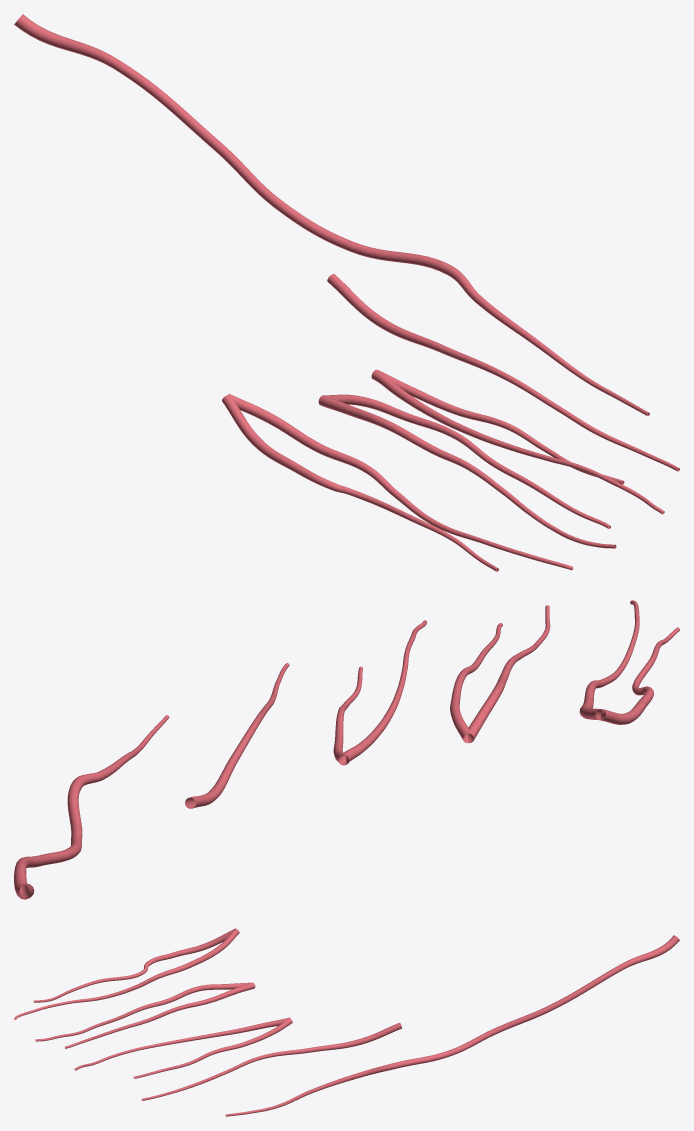
3 renders of one model, top to bottom at view 1: azimuth 30°, elevation 25°; view 2: azimuth 150°, elevation 25°; view 3: azimuth 270°, elevation 25°, orthographic. The views are drawn at different scales.
Visible parts, largest first — view 1: ZA_ed943951ea655c9f; view 2: ZA_ed943951ea655c9f; view 3: ZA_ed943951ea655c9f.
Boxes of the visible parts, x1=… form: ZA_ed943951ea655c9f: x1=14, y1=14, x2=679, y2=571; ZA_ed943951ea655c9f: x1=14, y1=600, x2=679, y2=899; ZA_ed943951ea655c9f: x1=14, y1=928, x2=679, y2=1116.
Size of the model in its own units: 0.063 by 0.0265 by 0.1464.
